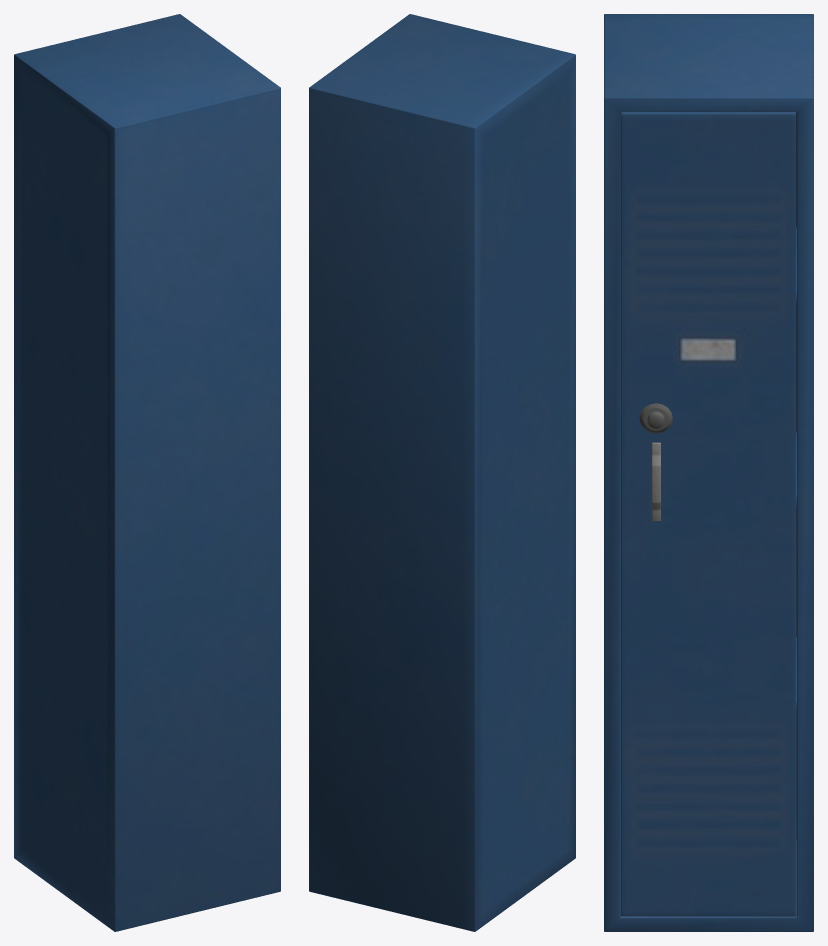
File: prop_school_locker.glb
3 views of the same model, side by side, from view 1: azimuth 30°, elevation 25°; view 2: azimuth 150°, elevation 25°; view 3: azimuth 270°, elevation 25° (orthographic). The views are drawn at different scales.
Parts seen in each view (by area): view 1: cabine low.010_Material.001_0; view 2: cabine low.010_Material.001_0; view 3: cabine low.010_Material.001_0.
Part boxes in pixels (left/top/right/bottom): cabine low.010_Material.001_0: left=14, top=14, right=280, bottom=931; cabine low.010_Material.001_0: left=309, top=14, right=575, bottom=931; cabine low.010_Material.001_0: left=604, top=14, right=813, bottom=931.
Size of the model in its own units: 0.4534 by 2 by 0.4561.
1 material, 1 textured.
